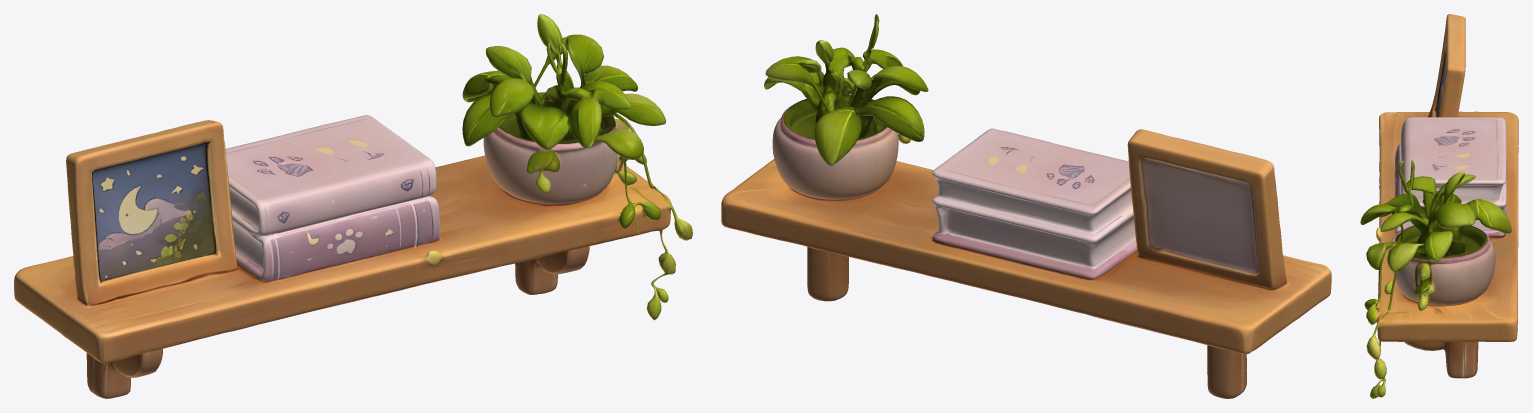
Rendered from bookshleve.glb.
The picture shows the model from 3 angles, left to right: view 1: azimuth 30°, elevation 25°; view 2: azimuth 150°, elevation 25°; view 3: azimuth 270°, elevation 25°; orthographic projection. The views are drawn at different scales.
Visible parts, largest first — view 1: model; view 2: model; view 3: model.
Boxes of the visible parts, x1,y1,x2,y2 form: model: [14, 14, 692, 398]; model: [721, 14, 1331, 398]; model: [1360, 14, 1518, 398].
Size of the model in its own units: 1.9 by 0.86 by 0.5837.
1 material, 1 textured.
